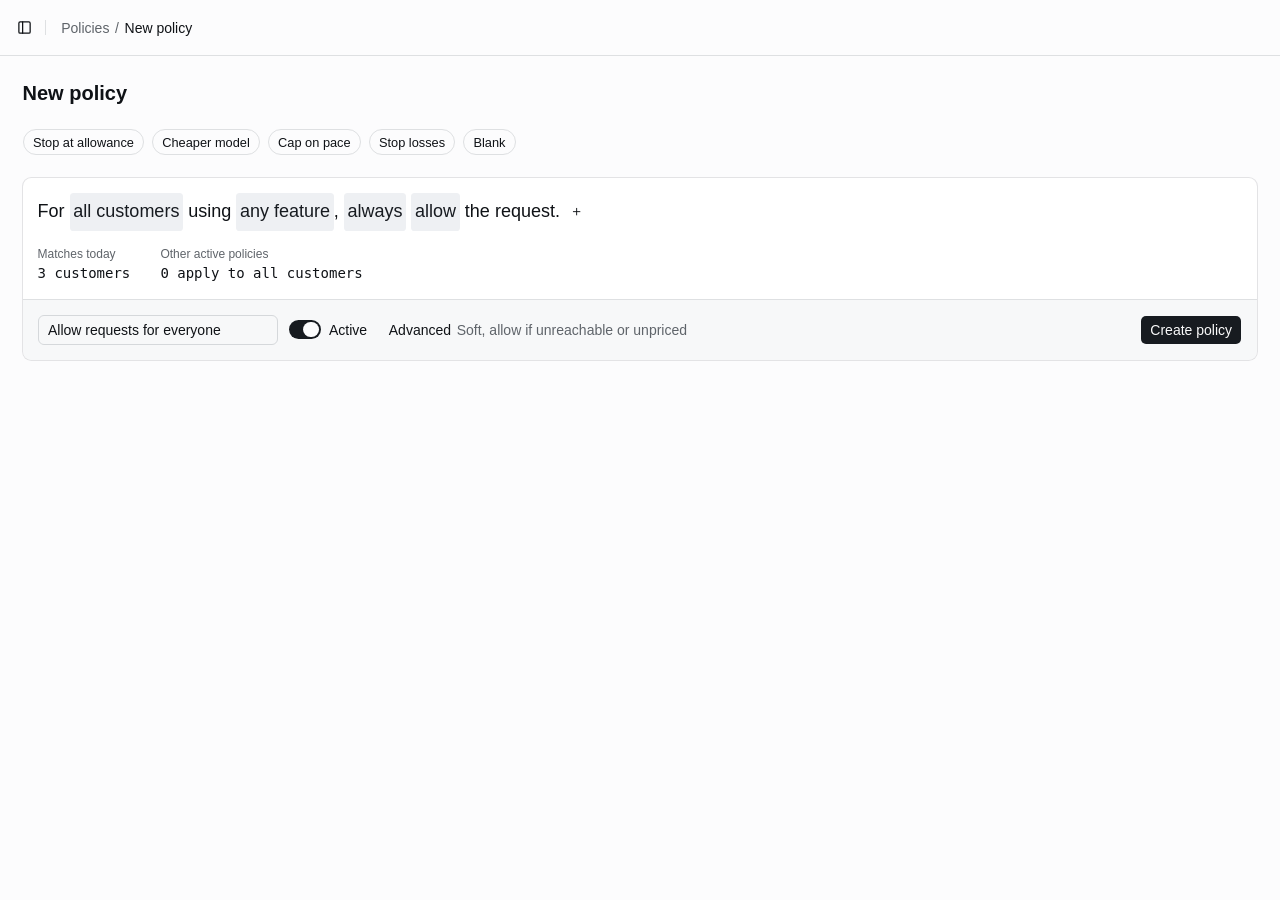
Scenario: saving with empty blanks lists them and sends nothing
Step 1. Click the button "Cheaper model" → (206, 142), box [152,129,260,155]
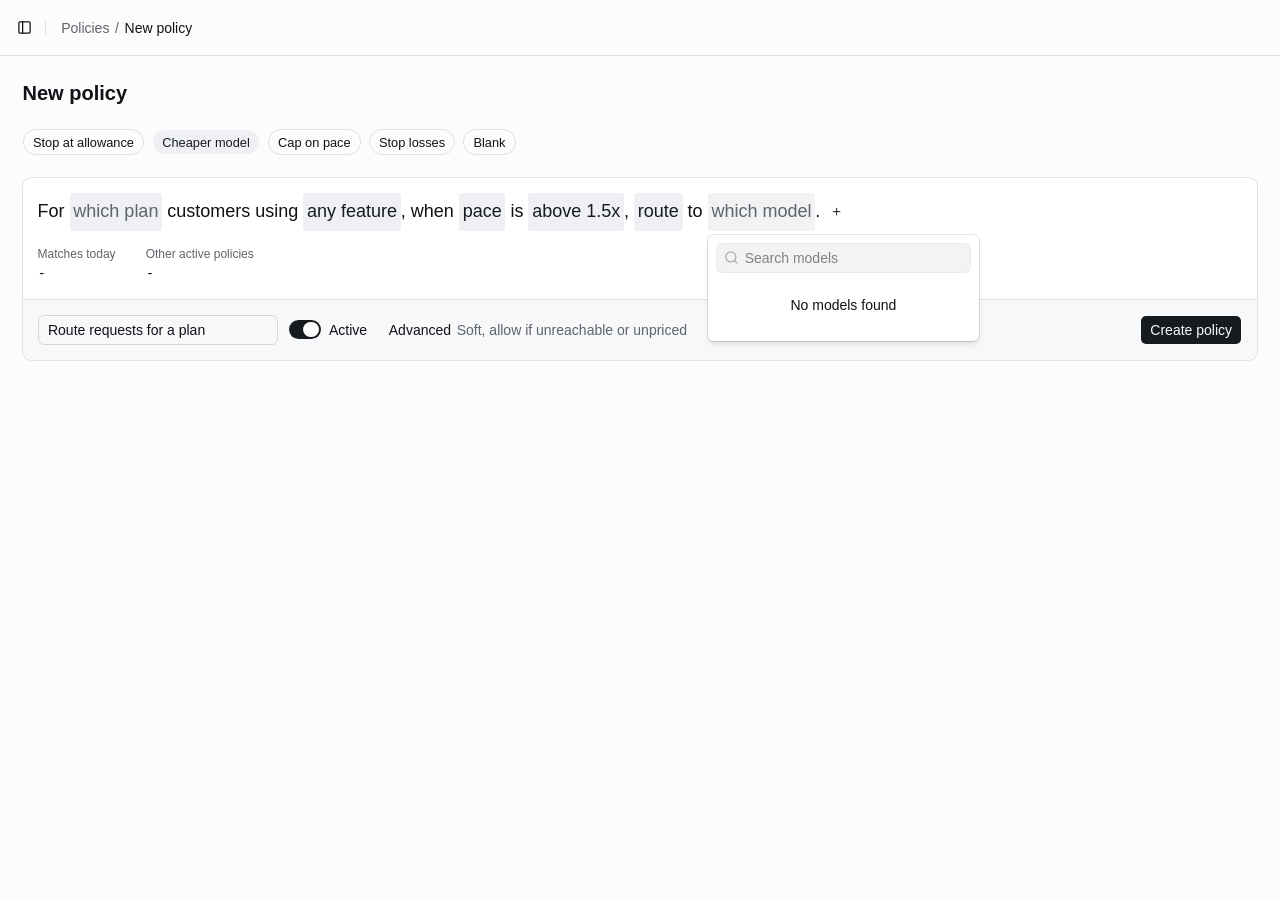
Step 2. Press Escape
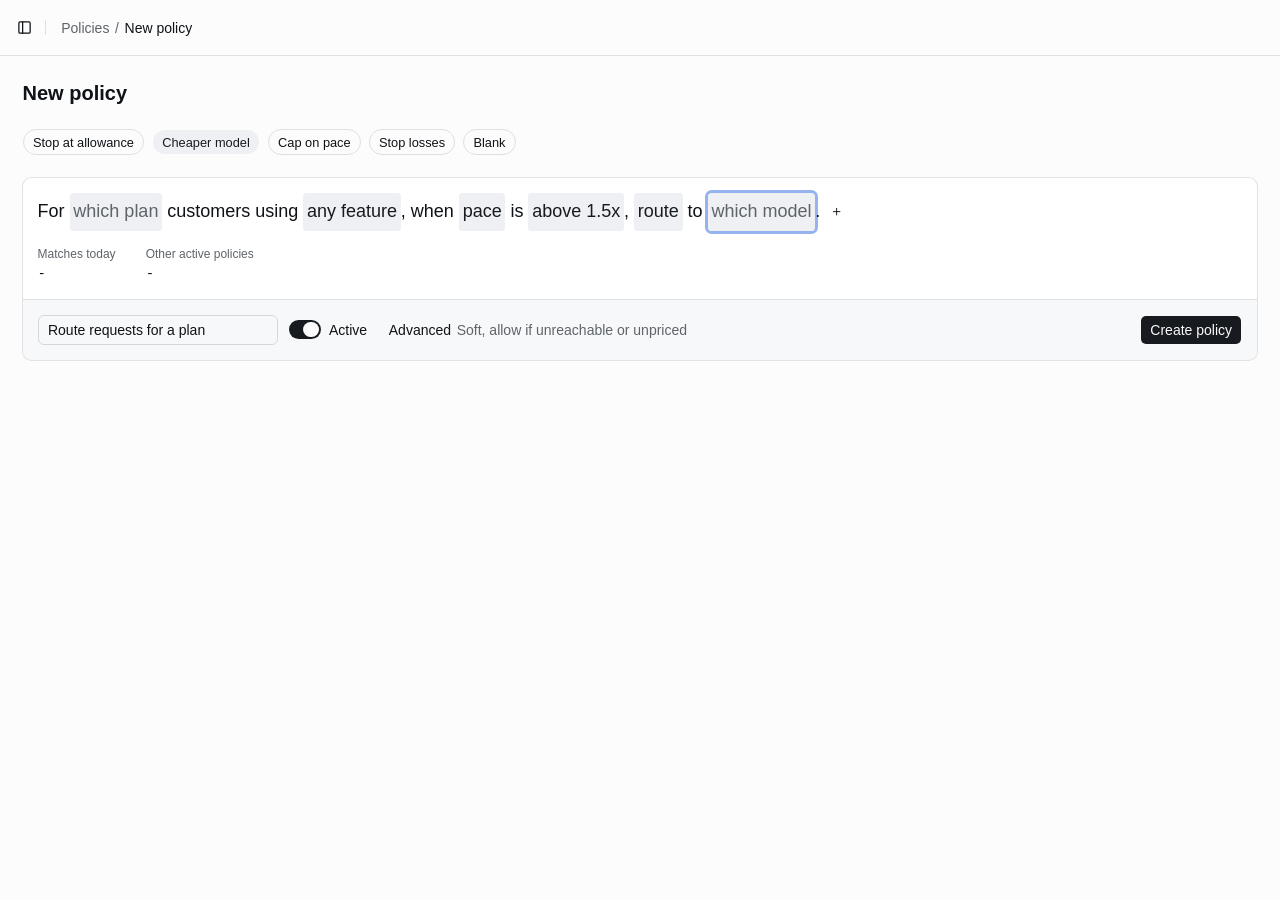
Step 3. Click the button "Create policy" → (1191, 330), box [1140,314,1242,345]
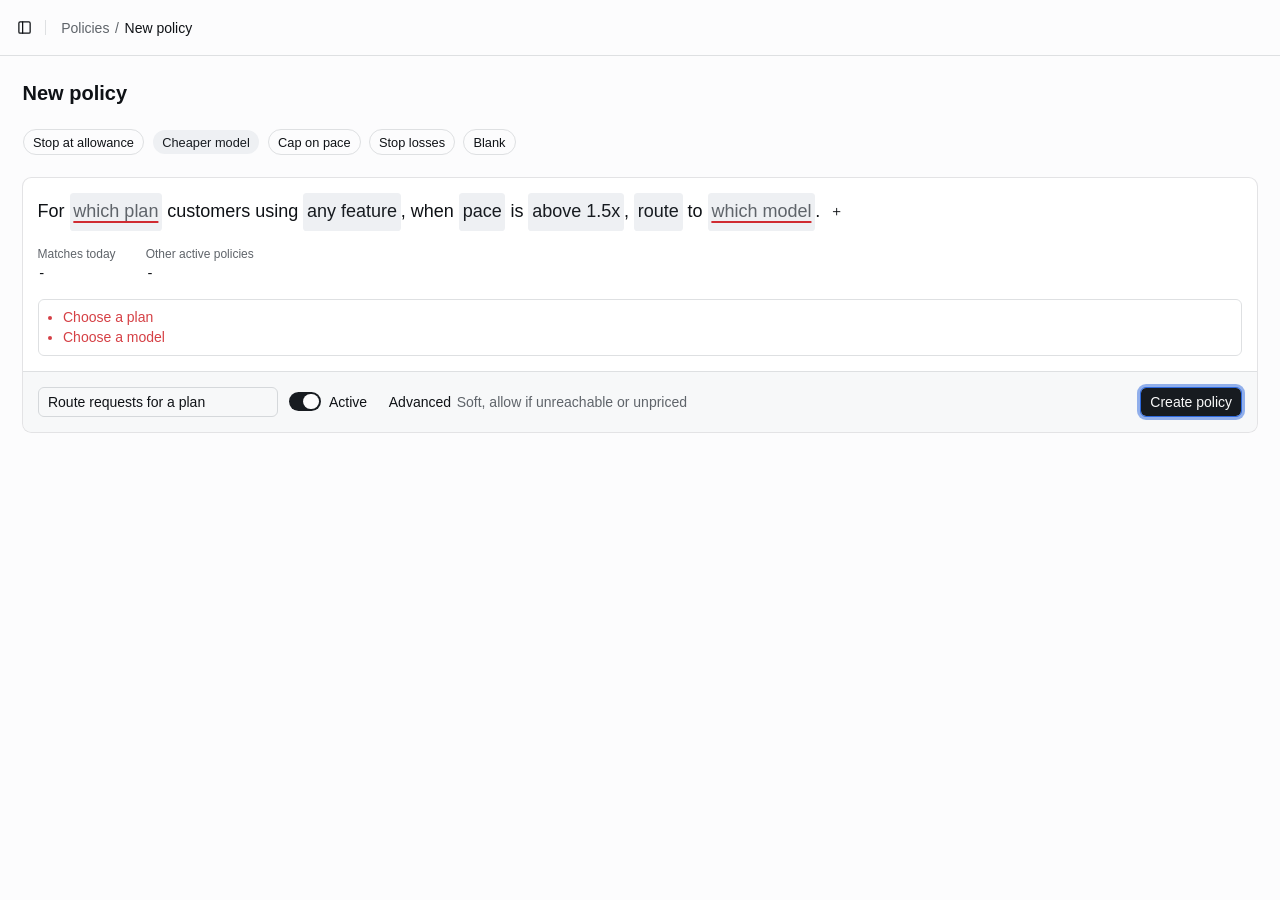
Expected: the list item "Choose a plan" is shown, [63,309,153,325]
Expected: the list item "Choose a model" is shown, [63,329,165,345]
